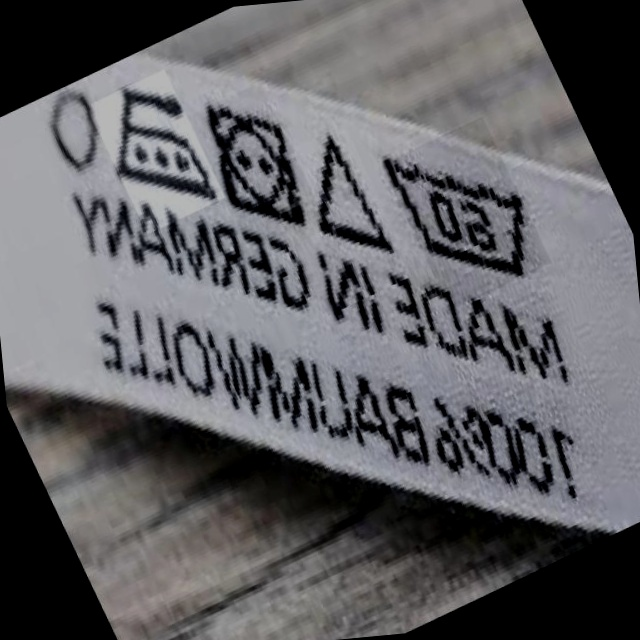60C: (380, 138, 545, 283)
bleach: (305, 126, 388, 260)
iron_high: (104, 75, 213, 210)
tumble_dry_medium: (206, 93, 305, 229)
